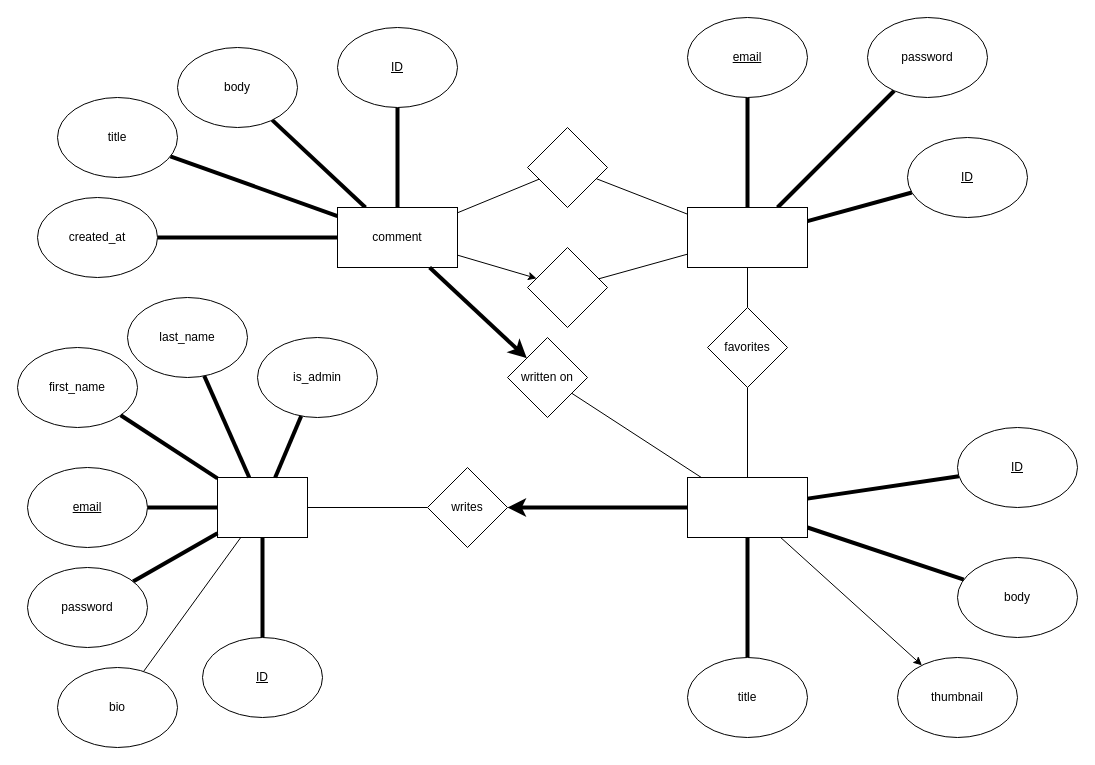
Image size: 1095x765. Some labels were removed from this diagram. The centre of each missing label's shape, as x and y in pixels:
"article" belongs at point (747, 507).
"creator" belongs at point (262, 507).
"liked by" belongs at point (567, 167).
"subscriber" belongs at point (747, 237).
"written by" belongs at point (567, 287).
